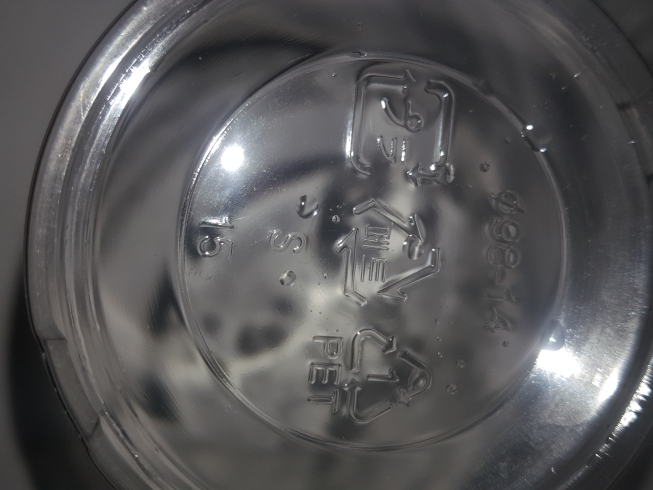recycle: (299, 324, 448, 431)
